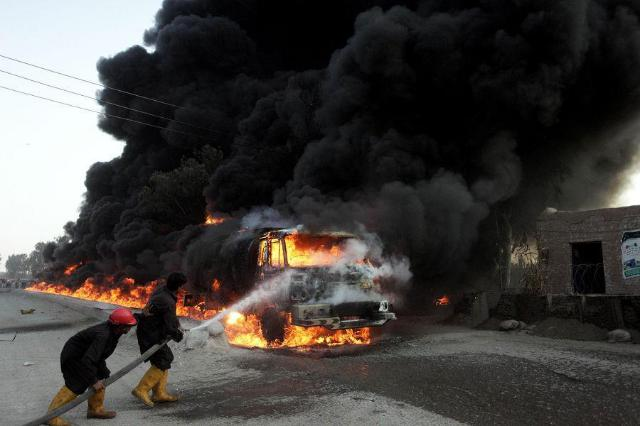fire: (224, 312, 262, 345), (282, 323, 326, 343), (296, 246, 338, 264), (327, 327, 369, 341), (70, 278, 94, 296), (284, 234, 298, 261), (184, 304, 213, 317), (94, 286, 118, 300), (270, 237, 282, 264), (119, 295, 141, 307), (42, 284, 68, 294), (130, 283, 154, 293), (174, 289, 183, 315), (25, 281, 45, 289), (202, 215, 220, 223), (118, 274, 134, 283), (62, 263, 74, 272)
